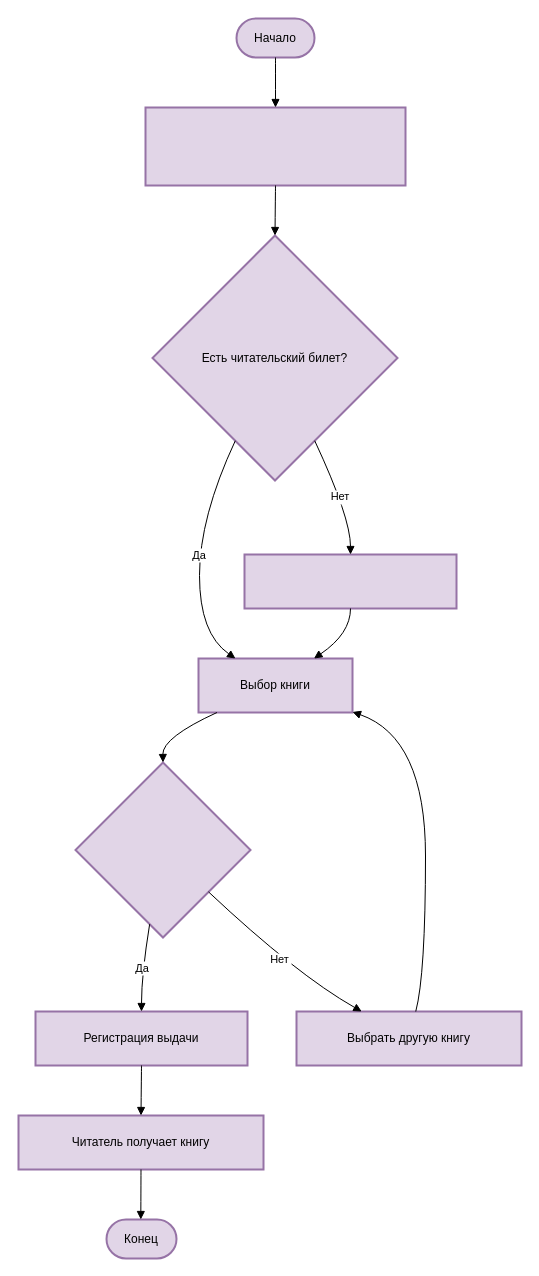
Some shapes in this 539 by 1276 pixel diagram are drawn without their labels. Each missing label, with the centre of its shape:
Книга доступна?: point (162, 849)
Оформление билета: point (350, 581)
Читатель приходит в библиотеку: point (275, 146)
